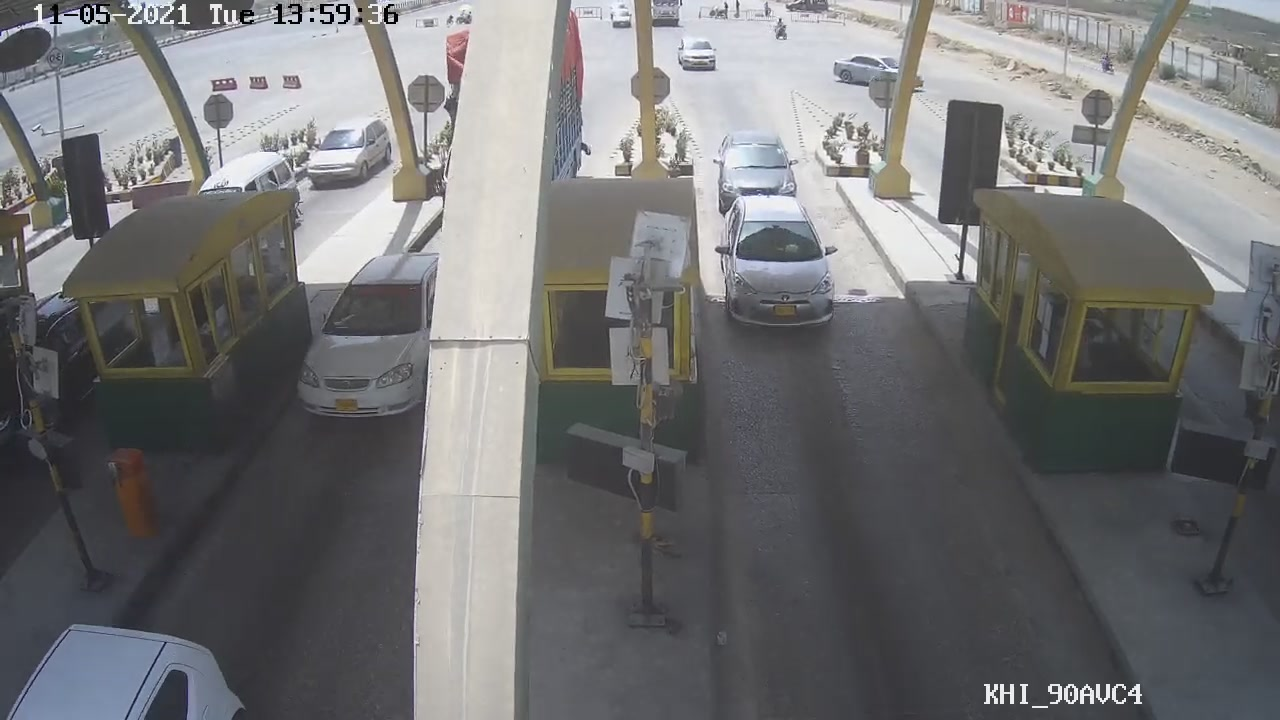F1: (711, 186, 848, 337)
